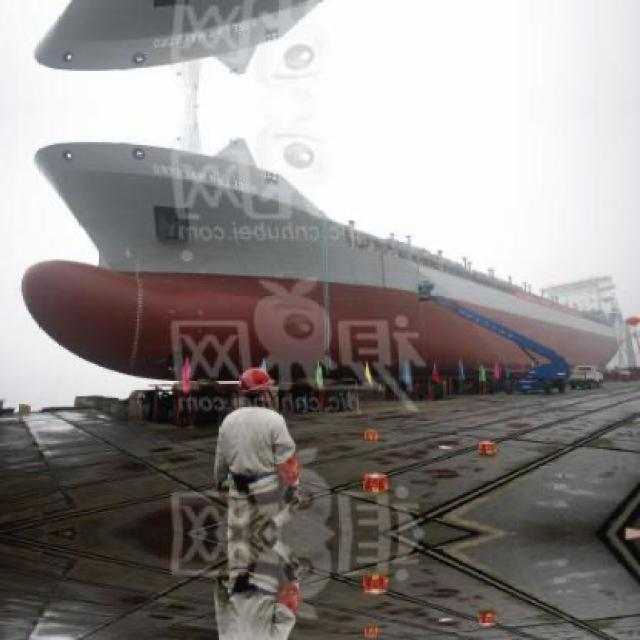con casco: (236, 348, 293, 426)
